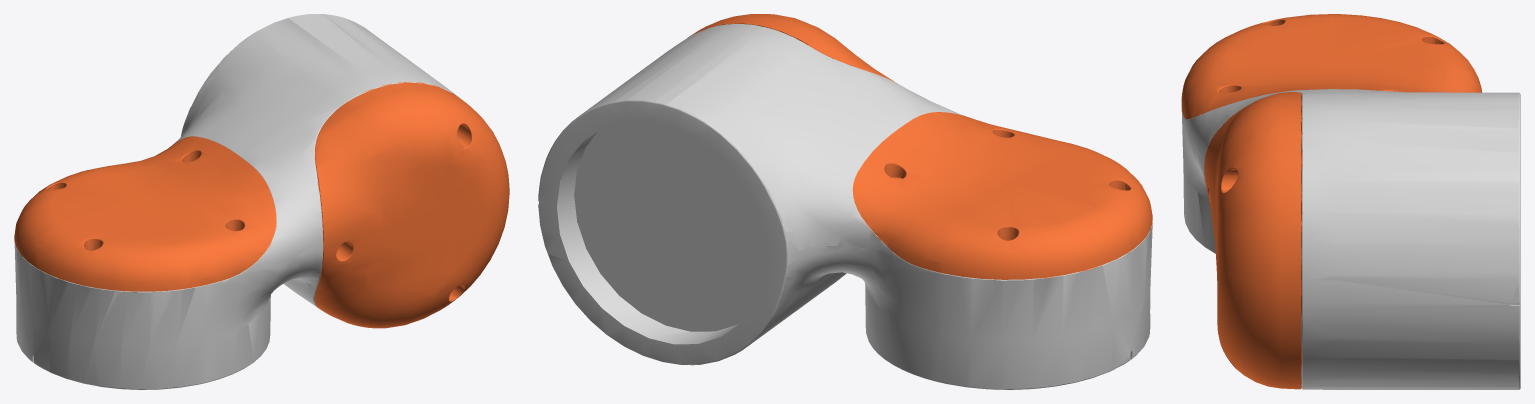
3 views of the same model, side by side, from view 1: azimuth 30°, elevation 25°; view 2: azimuth 150°, elevation 25°; view 3: azimuth 270°, elevation 25° (orthographic). The views are drawn at different scales.
Visible parts, largest first — view 1: null; view 2: null; view 3: null.
Part boxes in pixels (x1=…): null: x1=14, y1=14, x2=509, y2=389; null: x1=538, y1=14, x2=1152, y2=389; null: x1=1181, y1=14, x2=1520, y2=389.
Bounding box in the file's own units: 0.1696 × 0.083 × 0.0946.
